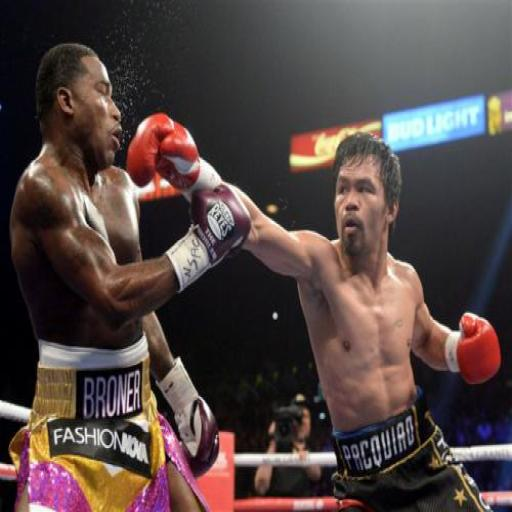boxing: (126, 112, 502, 511), (7, 40, 251, 510)
